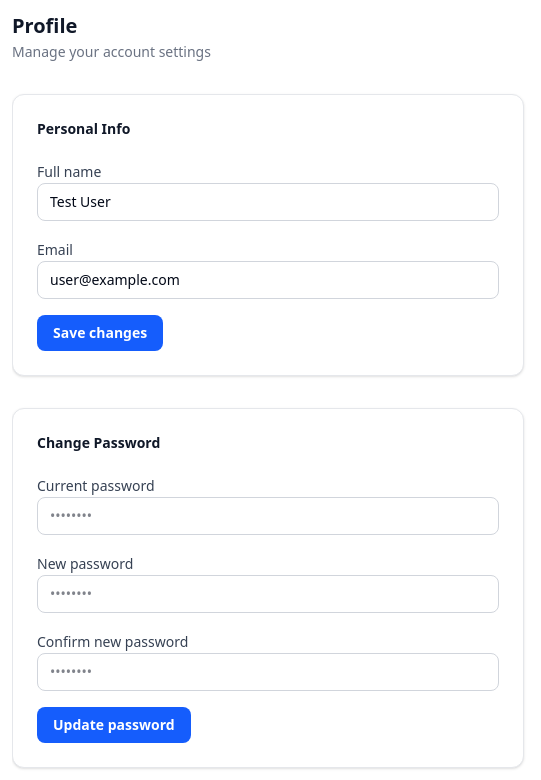
it: Profile › shows a validation error when the new passwords don't match
Type "oldpassword123" into the password field with placeholder "••••••••" below "Current password" at (268,516), box [37,497,499,535]
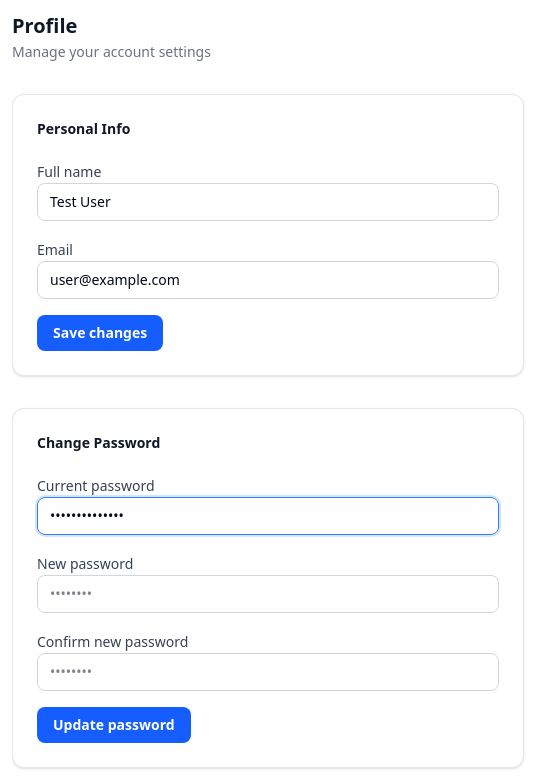
Type "newpassword123" into the 1st password field with placeholder "••••••••" at (268,594), box [37,575,499,613]
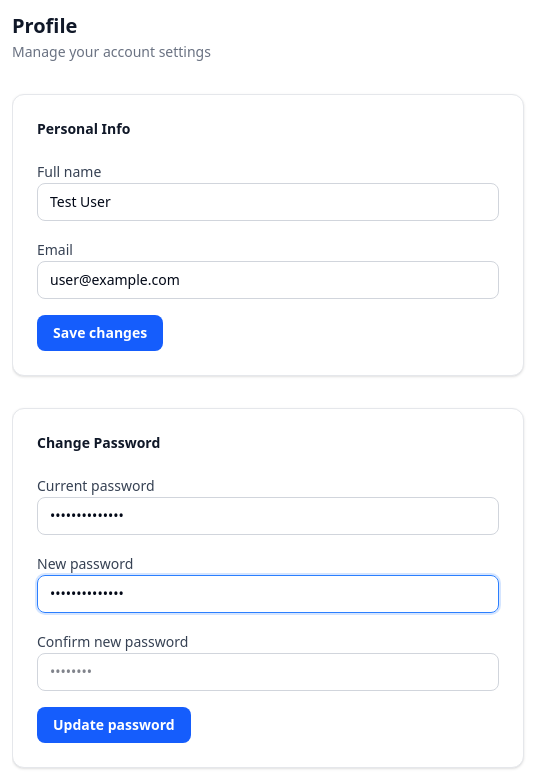
Type "different123" into the password field with placeholder "••••••••" at (268,672), box [37,653,499,691]
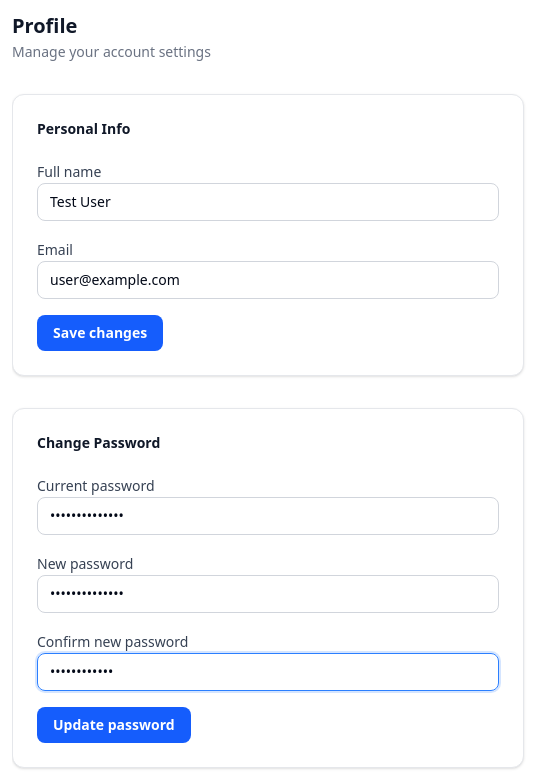
Click the button "Update password" at (114,725), box [37,707,191,743]
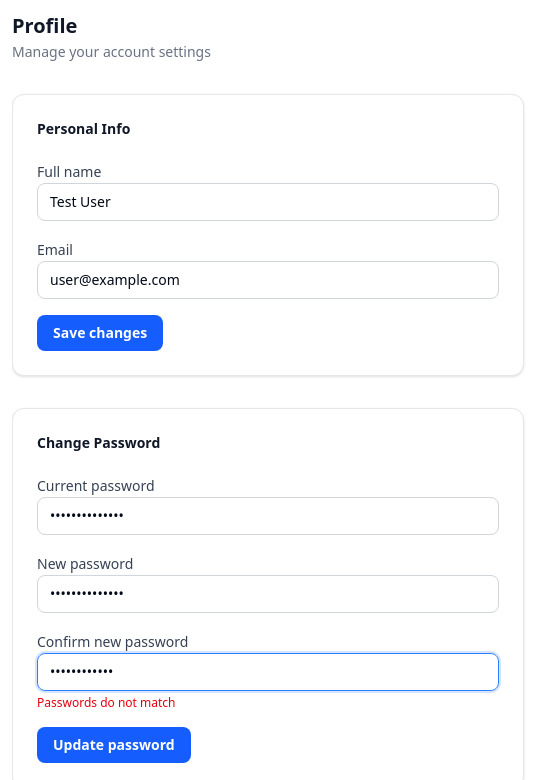
Check: the text "Passwords do not match" is shown, box [37,694,176,711]
